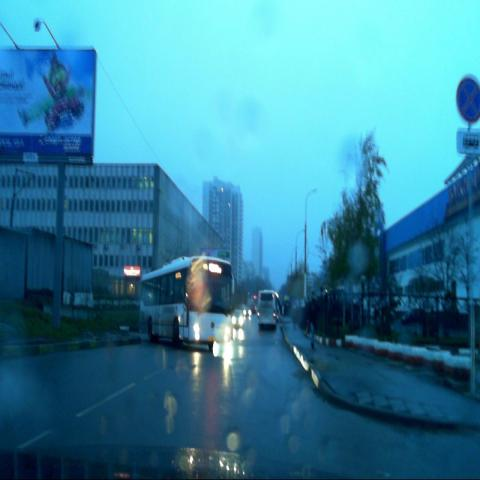3_27: (455, 75, 480, 124)
8_4_4: (456, 130, 480, 156)
